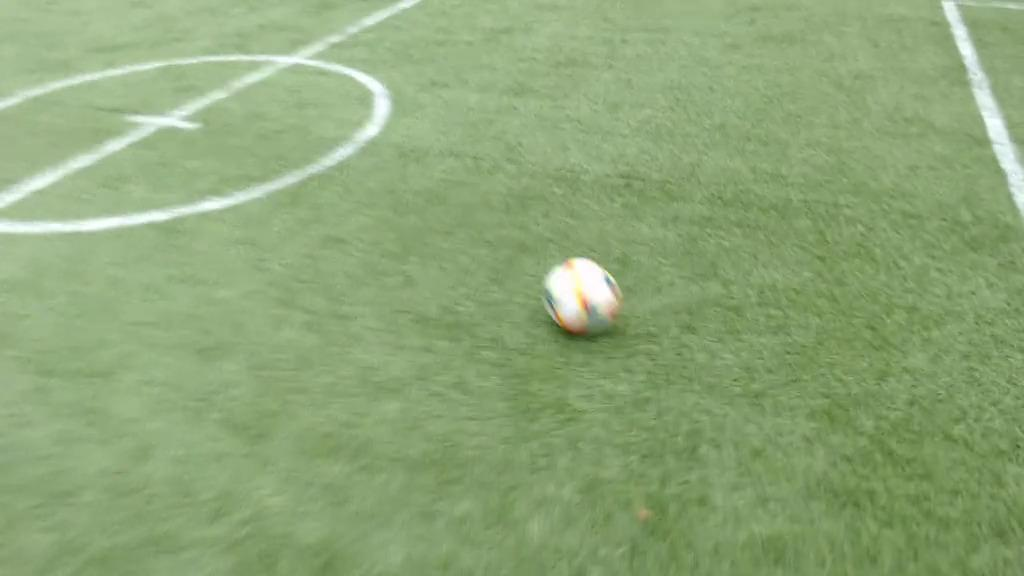ball: (543, 257, 619, 335)
